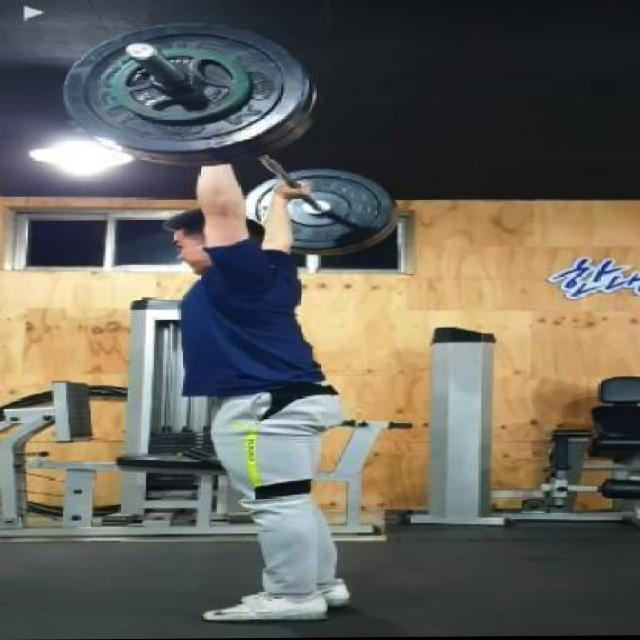barbell: (56, 16, 314, 162)
